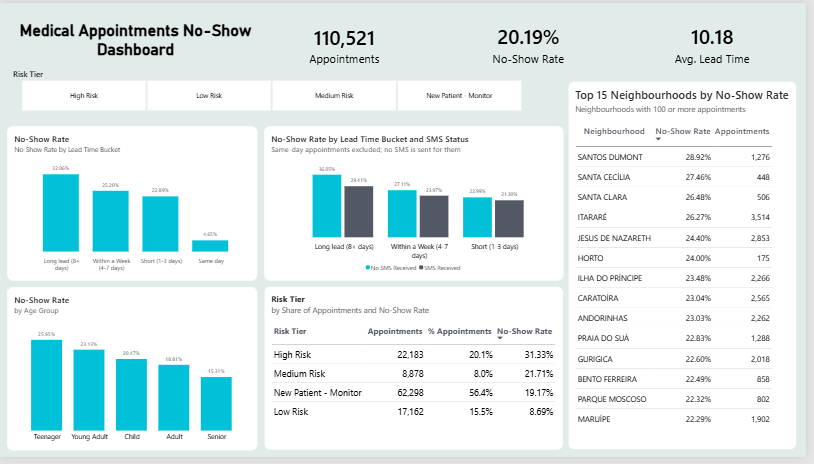

Layout of this report page (visuals, bound fields, positions):
{"tool":"powerbi","page":{"name":"Page 1","canvas":[1920,1080],"ordinal":0},"visuals":[{"type":"cardVisual","fields":{"Data":["appointments.Total_Appointments","appointments.No_Show_Rate","appointments.Avg_Lead_Time"]},"box":[588.6,23.5,1307.8,115.6],"z":0},{"type":"clusteredColumnChart","title":"No_Show_Rate ","fields":{"Category":["Dates.DayOfWeekShort"],"Y":["appointments.No_Show_Rate"]},"box":[1299.3,244,539.4,396],"z":1000},{"type":"clusteredColumnChart","fields":{"Category":["appointments.Lead Time Bucket"],"Series":["appointments.SMS_received"],"Y":["appointments.No_Show_Rate"]},"box":[29,244.9,550.5,376.6],"z":2000},{"type":"barChart","title":"Top 15 Highest Ranked Neighborhoods","fields":{"Category":["appointments.Neighbourhood"],"Y":["appointments.No_Show_Rate"]},"box":[616.5,237.6,627.2,802.7],"z":3000},{"type":"hundredPercentStackedBarChart","fields":{"Series":["Appointment_ Risk.risk_tier"],"Y":["appointments.Total_Appointments"]},"box":[589.3,143.5,1307.8,68.5],"z":4000},{"type":"textbox","box":[8.6,23.5,569.8,150.9],"z":5000},{"type":"slicer","title":"Risk Tier","fields":{"Values":["Appointment_ Risk.Risk_Tier"]},"box":[29.8,136.1,527.2,74.4],"z":6000},{"type":"clusteredColumnChart","title":"No- Show Rate ","fields":{"Category":["appointments.Age Group"],"Y":["appointments.No_Show_Rate"]},"box":[1280,657.1,616.5,383.1],"z":7000},{"type":"donutChart","fields":{"Series":["appointments.SMS_received"],"Y":["appointments.No_Show_Rate"]},"box":[18.4,658.4,558.4,189.6],"z":8000},{"type":"hundredPercentStackedBarChart","fields":{"Series":["appointments.Lead Time Bucket"],"Y":["Sum(appointments.SMS_received)"]},"box":[8.5,850.4,580.4,193.5],"z":9000}]}

Visuals, with their boxes in screenshot pixels (x1, y1, x2, y2), scaled from the page's 1920x1080 canvas onto the 814x464 screenshot:
cardVisual - appointments.Total_Appointments x appointments.No_Show_Rate: detection(250, 10, 804, 60)
"No_Show_Rate " clusteredColumnChart: detection(551, 105, 780, 275)
clusteredColumnChart - appointments.Lead Time Bucket x appointments.SMS_received: detection(12, 105, 246, 267)
"Top 15 Highest Ranked Neighborhoods" barChart: detection(261, 102, 527, 447)
hundredPercentStackedBarChart - Appointment_ Risk.risk_tier x appointments.Total_Appointments: detection(250, 62, 804, 91)
textbox: detection(4, 10, 245, 75)
"Risk Tier" slicer: detection(13, 58, 236, 90)
"No- Show Rate " clusteredColumnChart: detection(543, 282, 804, 447)
donutChart - appointments.SMS_received x appointments.No_Show_Rate: detection(8, 283, 245, 364)
hundredPercentStackedBarChart - appointments.Lead Time Bucket x Sum(appointments.SMS_received): detection(4, 365, 250, 448)
